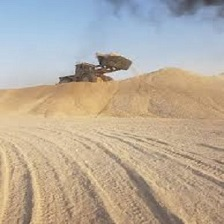sandy_soil: (11, 54, 211, 212)
